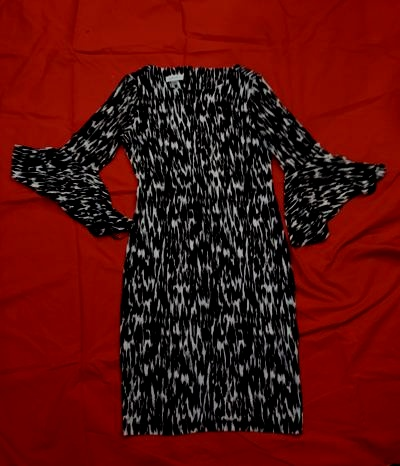Dress: (14, 37, 361, 444)
